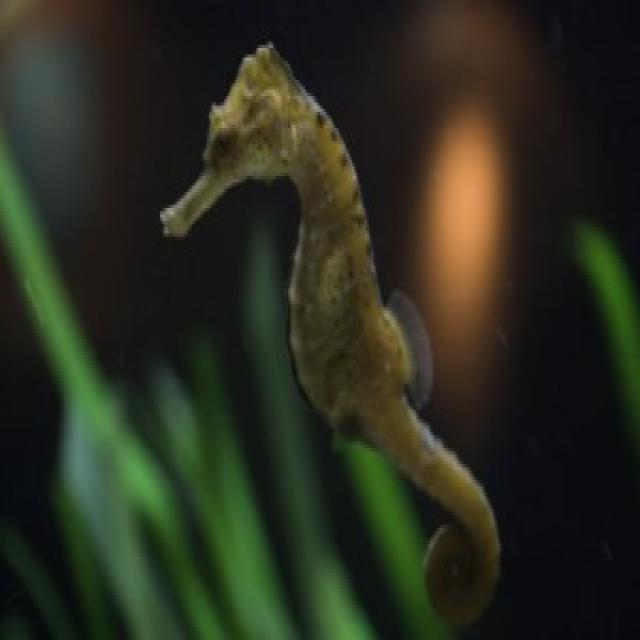Seahorse: (156, 29, 514, 628)
